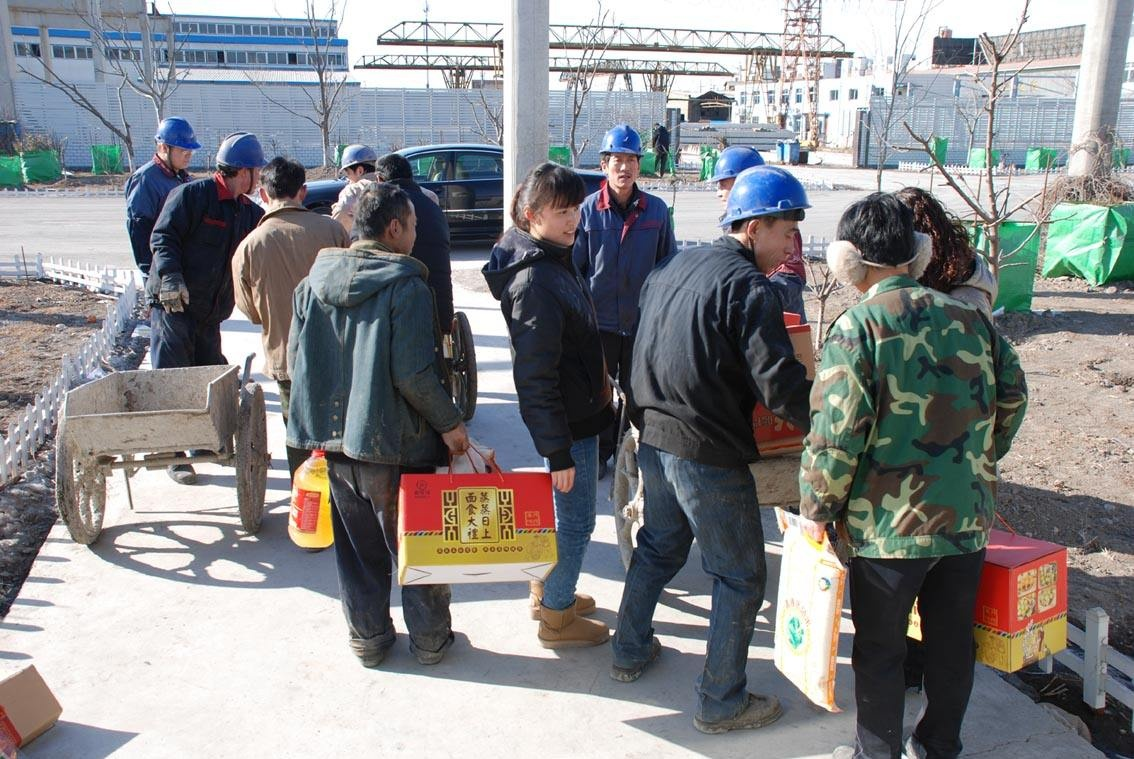blue: (723, 165, 807, 267), (213, 132, 265, 195), (593, 122, 643, 187), (151, 113, 198, 168), (337, 141, 373, 188)
none: (829, 190, 923, 299), (514, 157, 589, 250), (349, 181, 420, 261), (255, 153, 309, 211)
